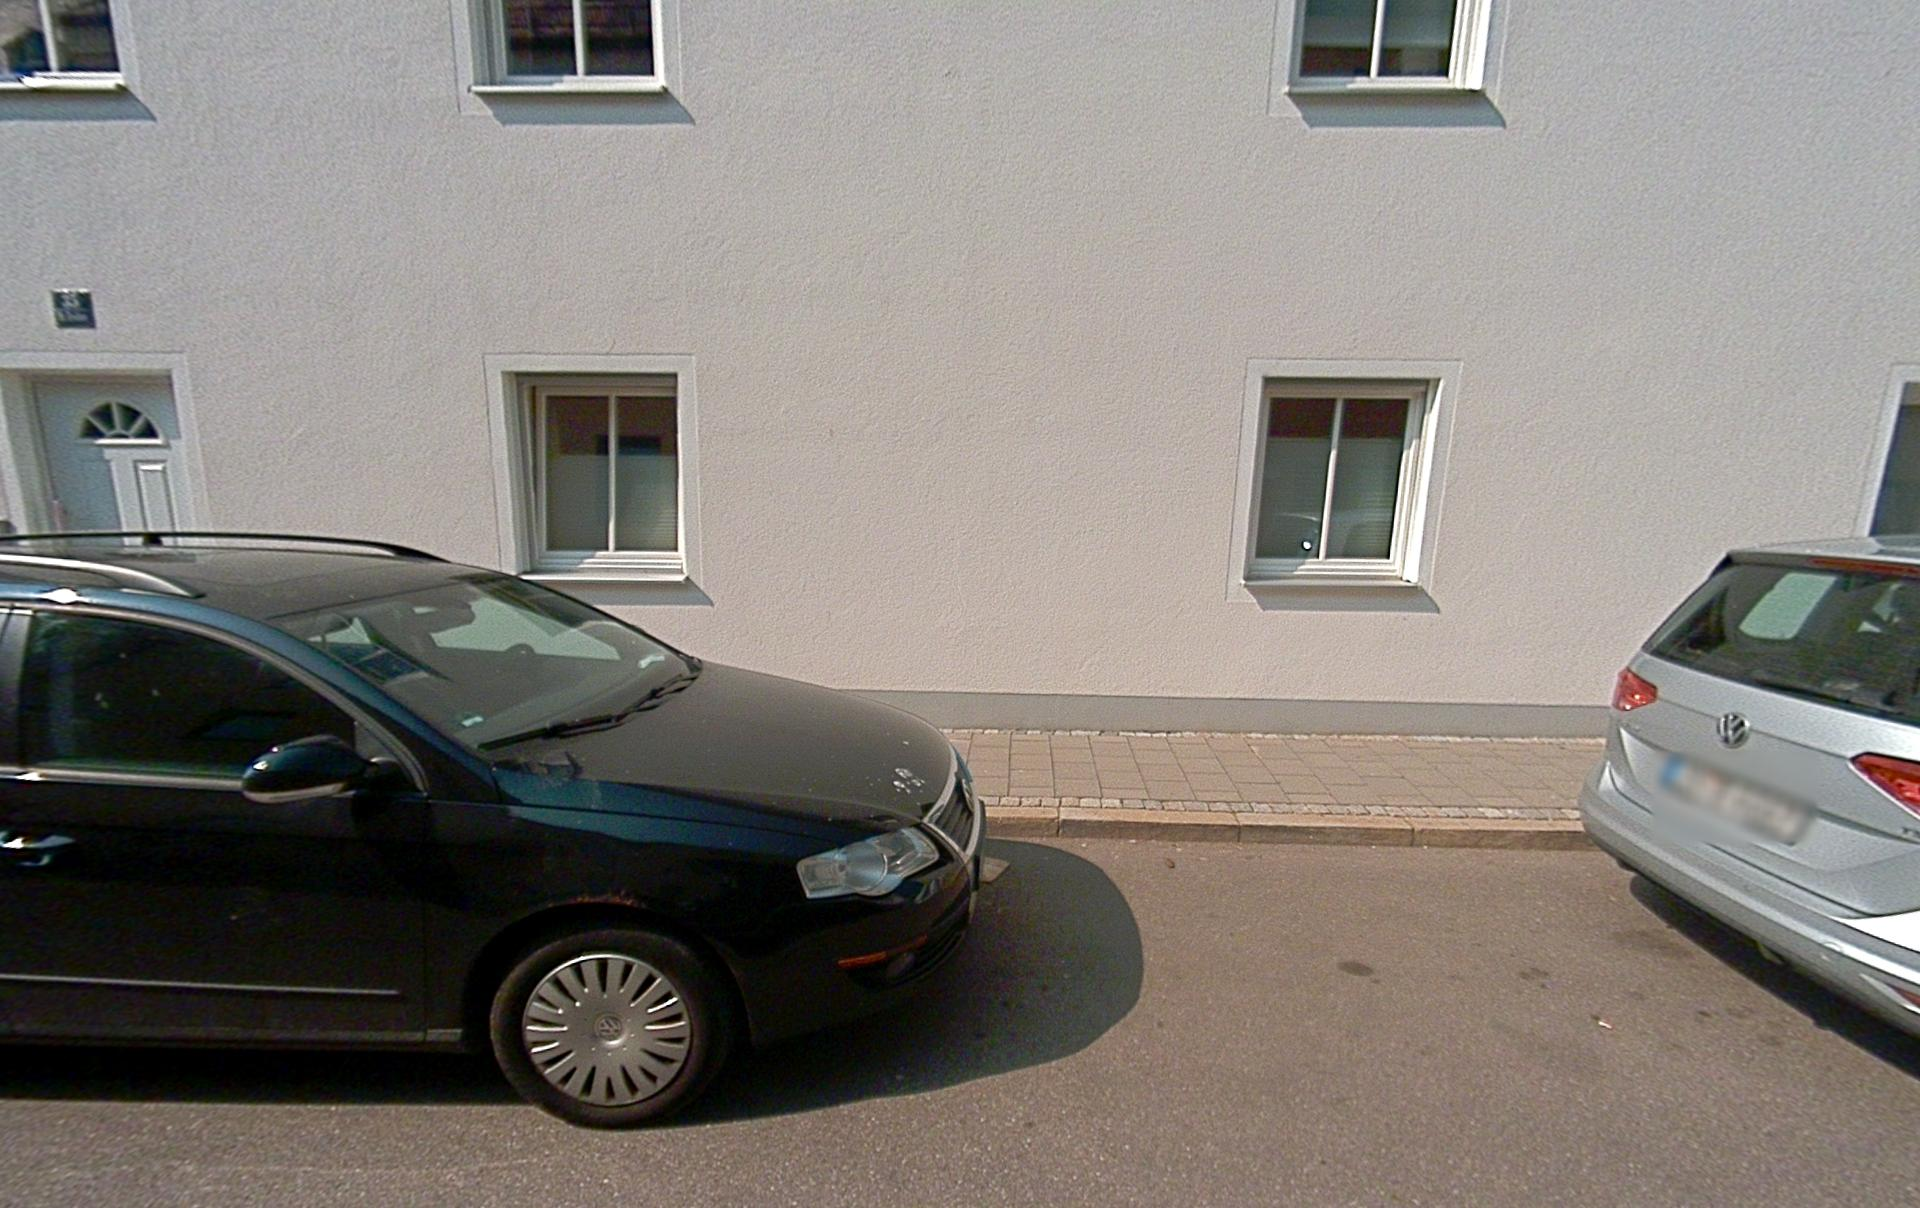car: (0, 527, 986, 1129), (1578, 532, 1920, 1038)
